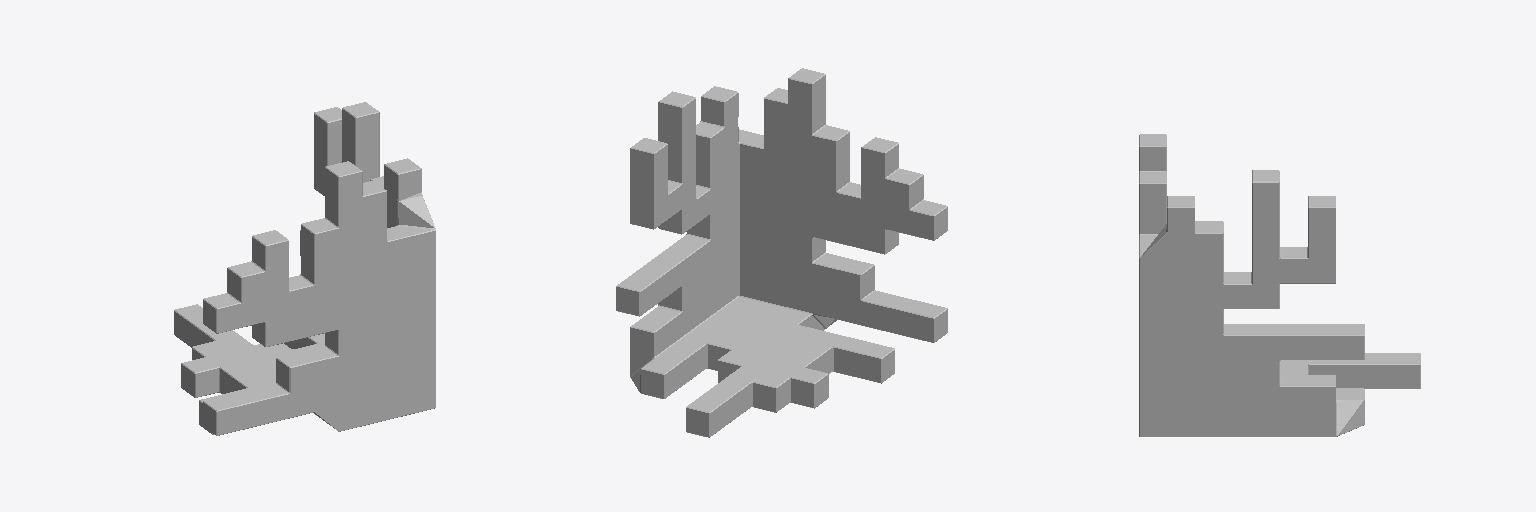
Rendered from PuzzleCube4.obj.
3 views of the same model, side by side, from view 1: azimuth 30°, elevation 25°; view 2: azimuth 150°, elevation 25°; view 3: azimuth 270°, elevation 25° (orthographic).
Visible parts, largest first — view 1: Cube.006_Cube.009; view 2: Cube.006_Cube.009; view 3: Cube.006_Cube.009.
Part boxes in pixels (x1,y1,x2,y2): Cube.006_Cube.009: (174,102,435,435); Cube.006_Cube.009: (616,68,947,437); Cube.006_Cube.009: (1139,134,1420,436).
Size of the model in its own units: 4.5 by 5 by 5.